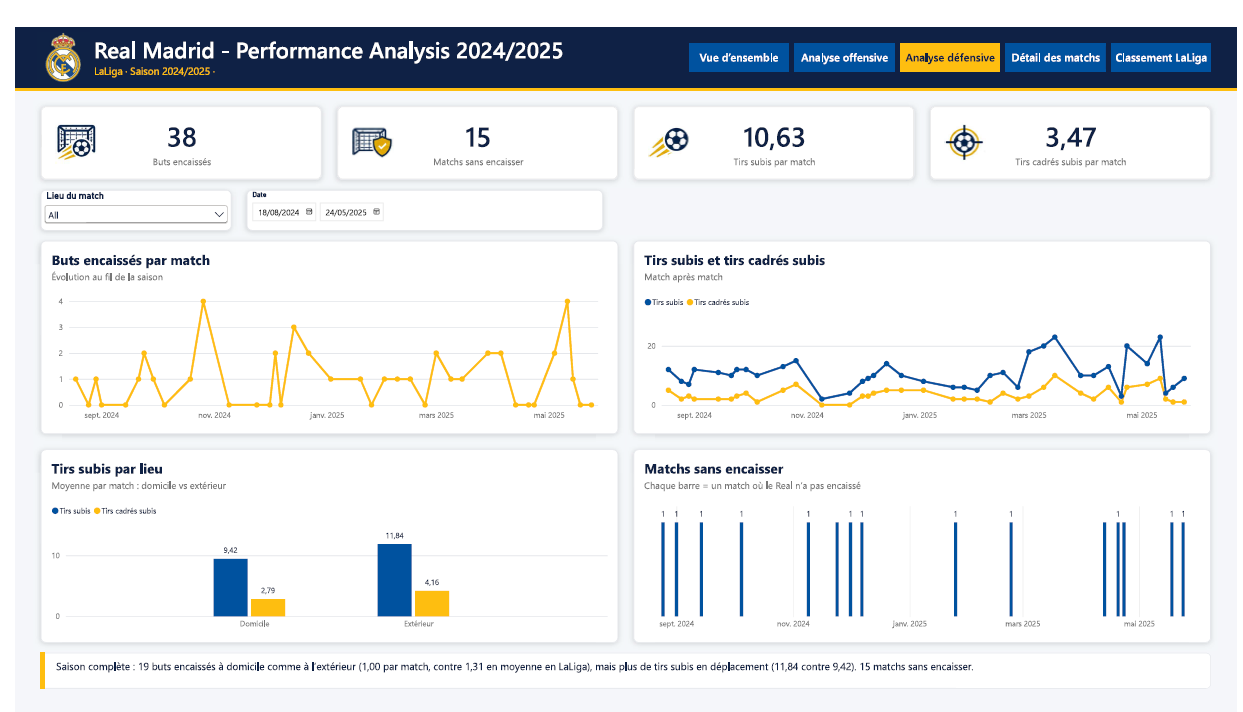

The dashboard page shown, as its layout file describes it:
{"tool":"powerbi","page":{"name":"Analyse défensive","canvas":[1920,1080],"ordinal":2},"visuals":[{"type":"shape","box":[0,0,1920,96],"z":0},{"type":"shape","box":[0,96,1920,4],"z":1},{"type":"textbox","box":[124,12,920,48],"z":2},{"type":"textbox","box":[124,58,920,30],"z":3},{"type":"image","box":[36,8,80,80],"z":4},{"type":"shape","box":[1060,26,156,44],"z":11},{"type":"shape","box":[1226,26,156,44],"z":12},{"type":"shape","box":[1392,26,156,44],"z":13},{"type":"shape","box":[1558,26,156,44],"z":14},{"type":"shape","box":[1724,26,156,44],"z":15},{"type":"textbox","box":[1060,35,156,35],"z":21},{"type":"textbox","box":[1226,35,156,35],"z":22},{"type":"textbox","box":[1392,35,156,35],"z":23},{"type":"textbox","box":[1558,35,156,35],"z":24},{"type":"textbox","box":[1724,35,156,35],"z":25},{"type":"actionButton","box":[1060,26,156,44],"z":31},{"type":"actionButton","box":[1226,26,156,44],"z":32},{"type":"actionButton","box":[1392,26,156,44],"z":33},{"type":"actionButton","box":[1558,26,156,44],"z":34},{"type":"actionButton","box":[1724,26,156,44],"z":35},{"type":"slicer","fields":{"Values":["Real_Madrid_2024_2025.Lieu du match"]},"box":[40,256,300,64],"z":60},{"type":"slicer","fields":{"Values":["Real_Madrid_2024_2025.Date"]},"box":[364,256,560,64],"z":61},{"type":"shape","box":[40,984,1840,56],"z":70},{"type":"shape","box":[40,984,6,56],"z":71},{"type":"textbox","box":[60,994,1800,40],"z":72},{"type":"cardVisual","fields":{"Data":["Real_Madrid_2024_2025.Buts encaissés"]},"box":[40,124,442,116],"z":100},{"type":"cardVisual","fields":{"Data":["Real_Madrid_2024_2025.Matchs sans encaisser"]},"box":[506,124,442,116],"z":101},{"type":"cardVisual","fields":{"Data":["Real_Madrid_2024_2025.Moyenne tirs subis"]},"box":[972,124,442,116],"z":102},{"type":"cardVisual","fields":{"Data":["Real_Madrid_2024_2025.Moyenne tirs cadrés subis"]},"box":[1438,124,442,116],"z":103},{"type":"lineChart","title":"Buts encaissés par match","fields":{"Category":["Real_Madrid_2024_2025.Date"],"Y":["Sum(Real_Madrid_2024_2025.Encaissés par match)"]},"box":[40,336,908,304],"z":200},{"type":"lineChart","title":"Tirs subis et tirs cadrés subis","fields":{"Category":["Real_Madrid_2024_2025.Date"],"Y":["Sum(Real_Madrid_2024_2025.Tirs subis par match)","Sum(Real_Madrid_2024_2025.Tirs cadrés subis)"]},"box":[972,336,908,304],"z":201},{"type":"clusteredColumnChart","title":"Tirs subis par lieu","fields":{"Category":["Real_Madrid_2024_2025.Lieu du match"],"Y":["Average(Real_Madrid_2024_2025.Tirs subis par match)","Average(Real_Madrid_2024_2025.Tirs cadrés subis)"]},"box":[40,664,908,304],"z":202},{"type":"clusteredColumnChart","title":"Matchs sans encaisser","fields":{"Category":["Real_Madrid_2024_2025.Date"],"Y":["Real_Madrid_2024_2025.Matchs sans encaisser"]},"box":[972,664,908,304],"z":203},{"type":"image","box":[64,150,64,64],"z":300},{"type":"image","box":[530,150,64,64],"z":301},{"type":"image","box":[996,150,64,64],"z":302},{"type":"image","box":[1462,150,64,64],"z":303}]}

Visuals, with their boxes in screenshot pixels (x1, y1, x2, y2), scaled from the page's 1920x1080 canvas onto the 1243x712 screenshot:
shape: [0,0,1242,63]
shape: [0,63,1242,66]
textbox: [80,8,676,40]
textbox: [80,38,676,58]
image: [23,5,75,58]
shape: [686,17,787,46]
shape: [794,17,895,46]
shape: [901,17,1002,46]
shape: [1009,17,1110,46]
shape: [1116,17,1217,46]
textbox: [686,23,787,46]
textbox: [794,23,895,46]
textbox: [901,23,1002,46]
textbox: [1009,23,1110,46]
textbox: [1116,23,1217,46]
actionButton: [686,17,787,46]
actionButton: [794,17,895,46]
actionButton: [901,17,1002,46]
actionButton: [1009,17,1110,46]
actionButton: [1116,17,1217,46]
slicer - Real_Madrid_2024_2025.Lieu du match: [26,169,220,211]
slicer - Real_Madrid_2024_2025.Date: [236,169,598,211]
shape: [26,649,1217,686]
shape: [26,649,30,686]
textbox: [39,655,1204,682]
cardVisual - Real_Madrid_2024_2025.Buts encaissés: [26,82,312,158]
cardVisual - Real_Madrid_2024_2025.Matchs sans encaisser: [328,82,614,158]
cardVisual - Real_Madrid_2024_2025.Moyenne tirs subis: [629,82,915,158]
cardVisual - Real_Madrid_2024_2025.Moyenne tirs cadrés subis: [931,82,1217,158]
"Buts encaissés par match" lineChart: [26,222,614,422]
"Tirs subis et tirs cadrés subis" lineChart: [629,222,1217,422]
"Tirs subis par lieu" clusteredColumnChart: [26,438,614,638]
"Matchs sans encaisser" clusteredColumnChart: [629,438,1217,638]
image: [41,99,83,141]
image: [343,99,385,141]
image: [645,99,686,141]
image: [946,99,988,141]
